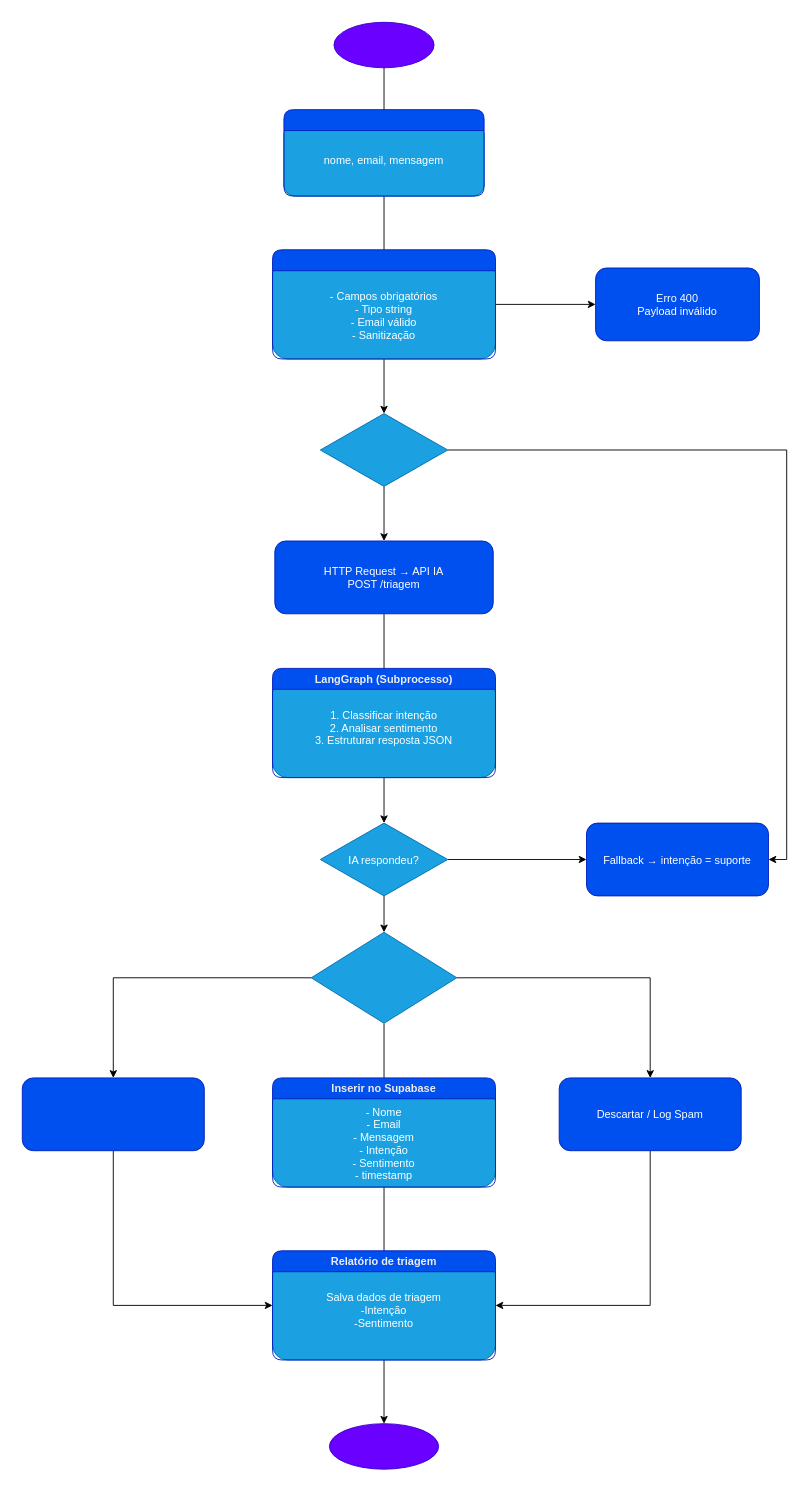
Some shapes in this 810 by 1485 pixel diagram are drawn without their labels. The centre of each missing label's shape, as x and y in pixels:
"END" goes at point (384, 1446).
"Enviar para HubSpot (simulado)" goes at point (112, 1114).
"Payload válido?" goes at point (383, 449).
"START" goes at point (383, 44).
"Switch (Intent)" goes at point (383, 977).
"Validação de Payload" goes at point (383, 304).
"Webhook Entrada Lead" goes at point (383, 152).
